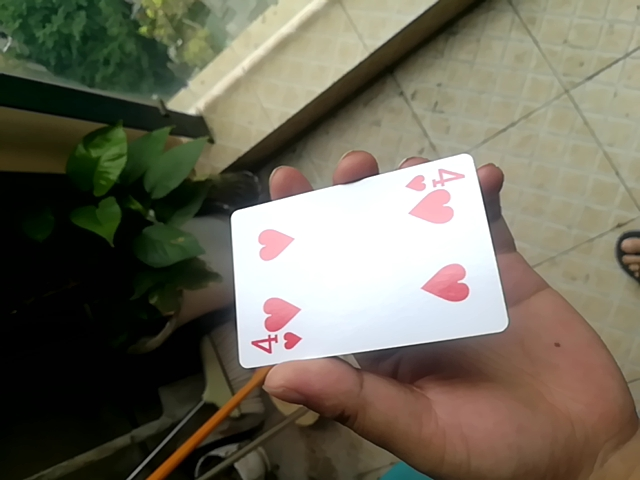hx 4: (229, 148, 509, 371)
